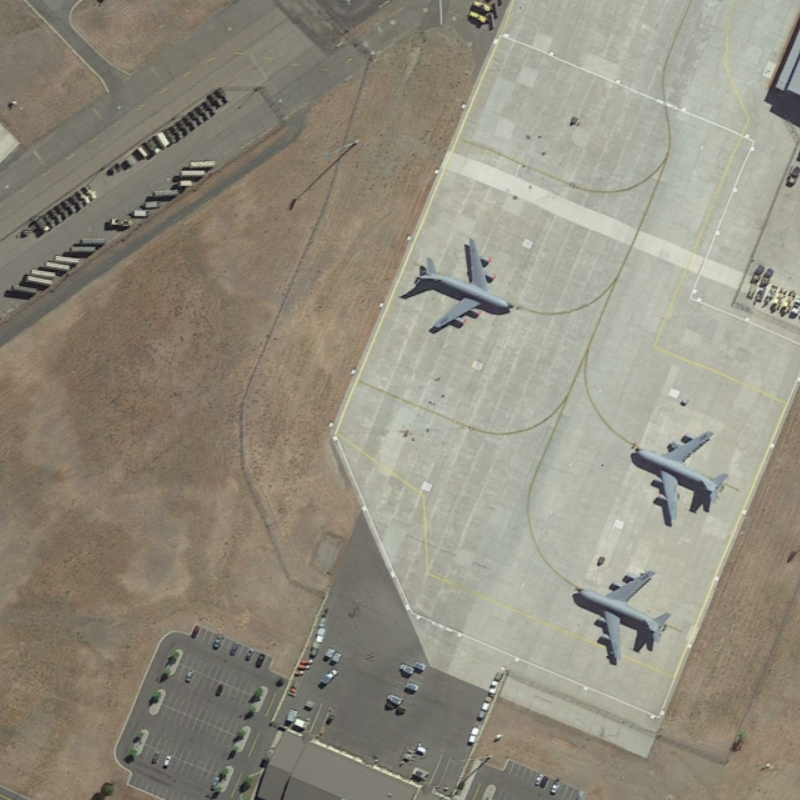A14: (406, 233, 518, 339), (568, 567, 676, 672), (625, 421, 729, 528)
